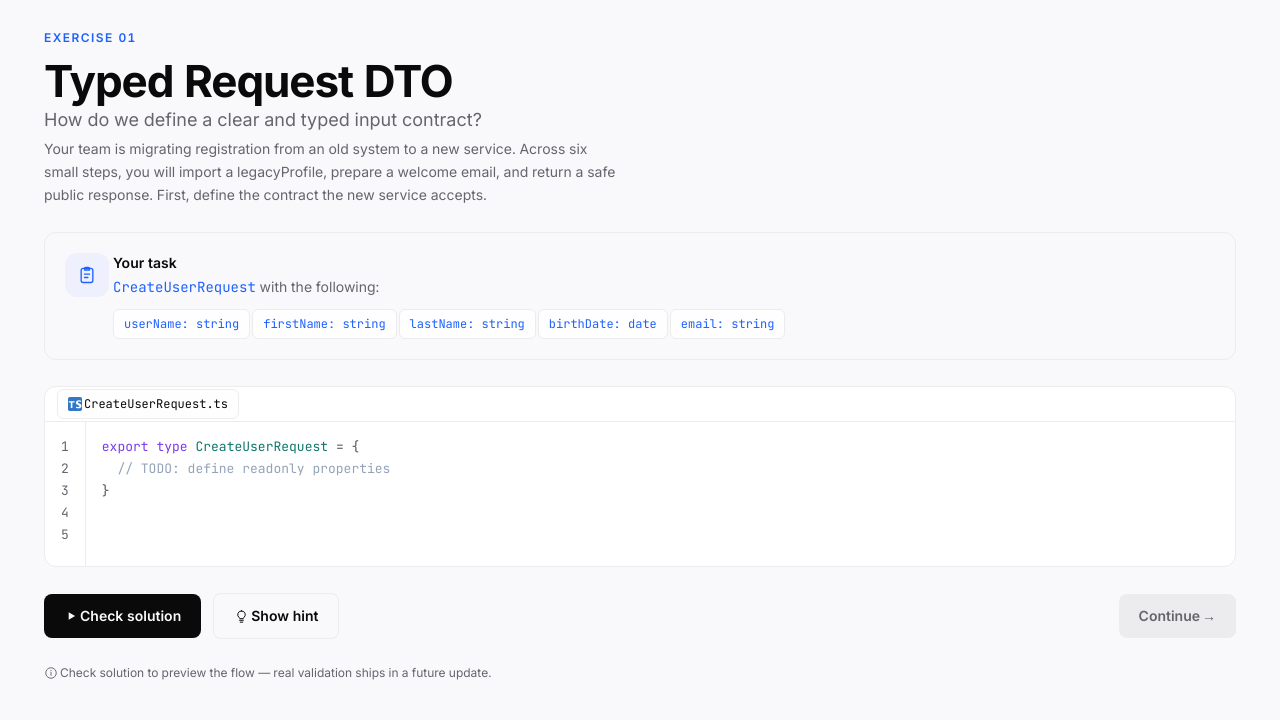
ExerciseCard › keeps Continue disabled until Check solution is clicked
The image size is (1280, 720).
Expected: the button "Continue →" is disabled, [1119,594,1236,638]
Click the button "Check solution". click: (123, 616)
box: [44,594,201,638]
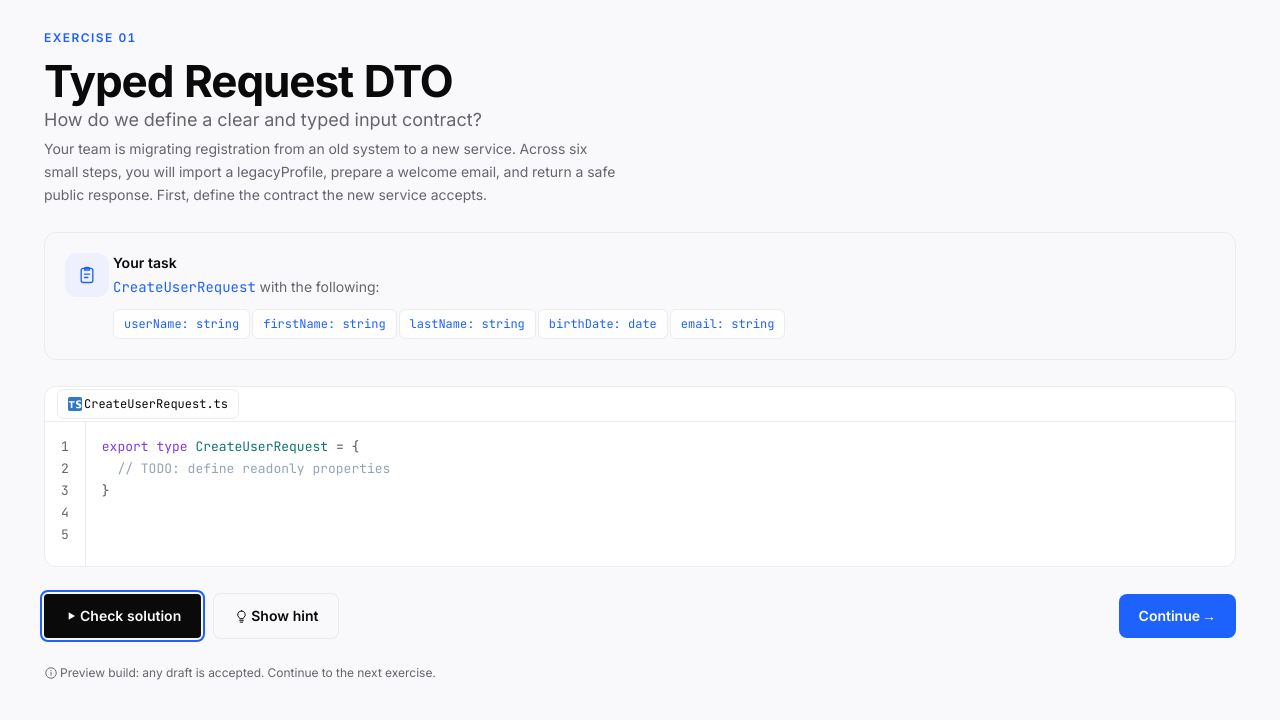
Expected: the button "Continue →" is enabled, [1119,594,1236,638]
